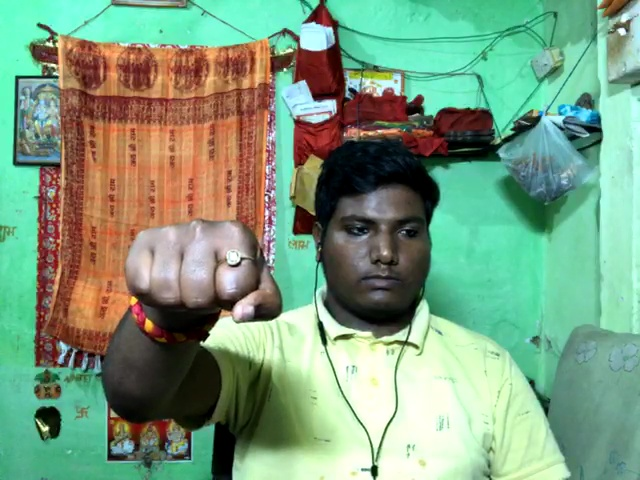Yes: (92, 199, 287, 365)
